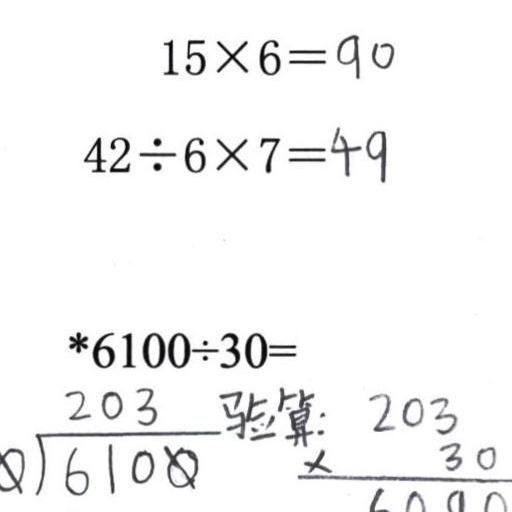ans: (327, 120, 388, 182), (333, 29, 395, 78)
